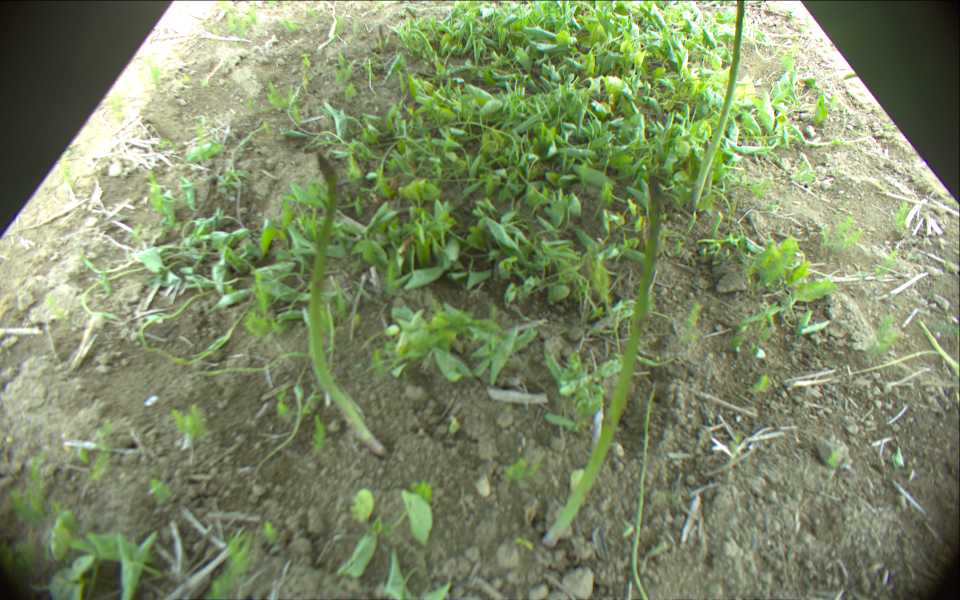aspa: (541, 172, 662, 547), (309, 154, 385, 457), (691, 1, 745, 211)
